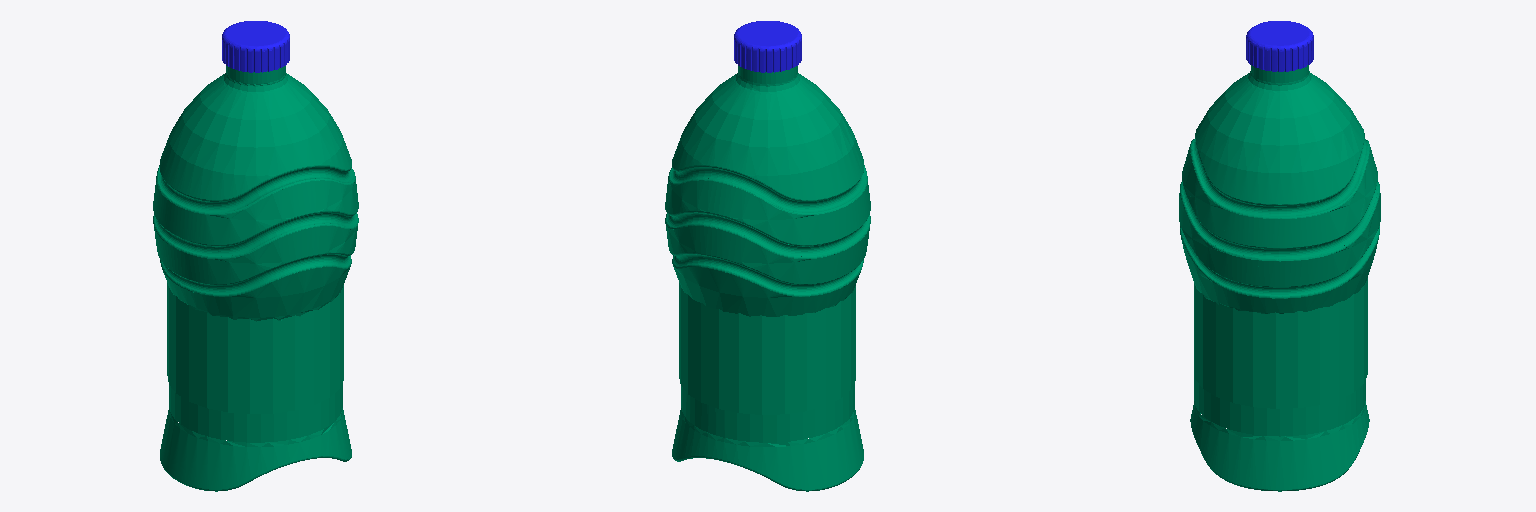
URDF robot description (bottle):
<?xml version='1.0' encoding='utf-8'?>
<robot name="bottle">
  <link name="base_link" />
  <link name="cap_link">
    <visual name="lid-7">
      <origin xyz="-0.0010509 -0.144410325 -0.001131375" />
      <geometry>
        <mesh filename="bottle_meshes/cap.obj" scale="0.15 0.15 0.15" />
      </geometry>
      <material name="cap_color">
        <color rgba="0.19215686 0.19215686 1 1" />
      </material>
    </visual>
    <collision name="graspable_handle_bar_cap">
      <origin xyz="-3.46033098e-13 0 -4.316243543e-13" rpy="0 0 0" />
      <geometry>
        <box size="0.0257118 0.01028475 0.02571105" />
      </geometry>
    </collision>
    <inertial>
      <origin xyz="-3.46033098e-13 0 -4.316243543e-13" rpy="0 0 0" />
      <mass value="0.0075" />
      <inertia ixx="4.792713591656247e-07" iyy="8.263467195890626e-07" izz="4.792954636265624e-07" ixy="0" ixz="0" iyz="0" />
    </inertial>
  </link>
  <joint name="cap_rotation_joint" type="continuous">
    <origin xyz="0.0 0 0.0" />
    <axis xyz="0 1 0" />
    <child link="cap_link" />
    <parent link="cap_axis" />
    <limit effort="3" velocity="6" />
    <dynamics damping="0.015" friction="0.015" />
  </joint>
  <link name="bottle_body">
    <visual name="body-5">
      <origin xyz="0 0 0" />
      <geometry>
        <mesh filename="bottle_meshes/body_4.obj" scale="0.15 0.15 0.15" />
      </geometry>
    </visual>
    <visual name="body-5">
      <origin xyz="0 0 0" />
      <geometry>
        <mesh filename="bottle_meshes/body_3.obj" scale="0.15 0.15 0.15" />
      </geometry>
    </visual>
    <visual name="body-5">
      <origin xyz="0 0 0" />
      <geometry>
        <mesh filename="bottle_meshes/body_8.obj" scale="0.15 0.15 0.15" />
      </geometry>
    </visual>
    <visual name="body-5">
      <origin xyz="0 0 0" />
      <geometry>
        <mesh filename="bottle_meshes/body_6.obj" scale="0.15 0.15 0.15" />
      </geometry>
    </visual>
    <visual name="body-5">
      <origin xyz="0 0 0" />
      <geometry>
        <mesh filename="bottle_meshes/body_2.obj" scale="0.15 0.15 0.15" />
      </geometry>
    </visual>
    <visual name="neck-6">
      <origin xyz="0 0 0" />
      <geometry>
        <mesh filename="bottle_meshes/body_5.obj" scale="0.15 0.15 0.15" />
      </geometry>
    </visual>
    <inertial>
      <origin xyz="0.001050825 0.011565525 0.0011313" rpy="0 0 0" />
      <mass value="0.04" />
      <inertia ixx="0.0002715183032148749" iyy="4.161091253167499e-05" izz="0.00027155014183694997" ixy="0" ixz="0" iyz="0" />
    </inertial>
    <collision name="bottle_section_0">
      <origin xyz="0.0010509 -0.1154171462 0.0011313" rpy="0 0 0" />
      <geometry>
        <box size="0.0750168 0.02029480769 0.0733296" />
      </geometry>
    </collision>
    <collision name="bottle_section_1">
      <origin xyz="0.0010509 -0.09512233846 0.0011313" rpy="0 0 0" />
      <geometry>
        <box size="0.0780093 0.02029480769 0.077073" />
      </geometry>
    </collision>
    <collision name="bottle_section_2">
      <origin xyz="0.001050825 -0.07482753077 0.0011313" rpy="0 0 0" />
      <geometry>
        <box size="0.07903425 0.02029480769 0.0789738" />
      </geometry>
    </collision>
    <collision name="bottle_section_3">
      <origin xyz="0.00105075 -0.05453272308 0.0011313" rpy="0 0 0" />
      <geometry>
        <box size="0.0789387 0.02029480769 0.0789738" />
      </geometry>
    </collision>
    <collision name="bottle_section_4">
      <origin xyz="0.0010509 -0.03423791538 0.001131375" rpy="0 0 0" />
      <geometry>
        <box size="0.0751896 0.02029480769 0.07656735" />
      </geometry>
    </collision>
    <collision name="bottle_section_5">
      <origin xyz="0.0010509 -0.01394310769 0.00129435" rpy="0 0 0" />
      <geometry>
        <box size="0.070275 0.02029480769 0.067341" />
      </geometry>
    </collision>
    <collision name="bottle_section_6">
      <origin xyz="0.000713175 0.0063517 0.001067625" rpy="0 0 0" />
      <geometry>
        <box size="0.06632175 0.02029480769 0.06632175" />
      </geometry>
    </collision>
    <collision name="bottle_section_8">
      <origin xyz="0.0010509 0.04694131538 0.00113115" rpy="0 0 0" />
      <geometry>
        <box size="0.0725982 0.02029480769 0.0714243" />
      </geometry>
    </collision>
    <collision name="bottle_section_9">
      <origin xyz="0.0010509 0.06723612308 0.0011313" rpy="0 0 0" />
      <geometry>
        <box size="0.0771546 0.02029480769 0.0772482" />
      </geometry>
    </collision>
    <collision name="bottle_section_10">
      <origin xyz="0.0010509 0.08753093077 0.0011313" rpy="0 0 0" />
      <geometry>
        <box size="0.0763902 0.02029480769 0.0772482" />
      </geometry>
    </collision>
    <collision name="bottle_section_11">
      <origin xyz="0.001050825 0.1078257385 0.0011313" rpy="0 0 0" />
      <geometry>
        <box size="0.06855465 0.02029480769 0.0651369" />
      </geometry>
    </collision>
    <collision name="bottle_section_12">
      <origin xyz="0.001172025 0.1281205462 0.0011313" rpy="0 0 0" />
      <geometry>
        <box size="0.04167525 0.02029480769 0.0419175" />
      </geometry>
    </collision>
  </link>
  <joint name="body_mount_joint" type="fixed">
    <origin rpy="1.570796326794897 0 -1.570796326794897" xyz="0 0 0.12556455" />
    <child link="bottle_body" />
    <parent link="base_link" />
  </joint>
  <link name="cap_axis">
    <inertial>
      <origin xyz="0 0 0" rpy="0 0 0" />
      <mass value="0.0001" />
      <inertia ixx="1e-09" iyy="1e-09" izz="1e-09" ixy="0" ixz="0" iyz="0" />
    </inertial>
  </link>
  <joint name="cap_lift_joint" type="prismatic">
    <origin xyz="0.0010509 0.144410325 0.001131375" />
    <axis xyz="0 1 0" />
    <child link="cap_axis" />
    <parent link="bottle_body" />
    <limit lower="0" upper="0.06400000000000006" effort="20" velocity="0.1" />
    <dynamics damping="0.5" friction="0.2" />
  </joint>
</robot>

--- Facts derived from the render (not from the file) ---
Views: 3 orthographic renders of the robot side by side, from view 1: azimuth 30°, elevation 25°; view 2: azimuth 150°, elevation 25°; view 3: azimuth 270°, elevation 25°.
Robot: bottle — 4 links, 3 joints (1 continuous, 1 prismatic, 1 fixed); root link base_link; default pose: every joint at zero.
Links seen in each view (by area): view 1: bottle_body, cap_link; view 2: bottle_body, cap_link; view 3: bottle_body, cap_link.
Boxes of the visible links, x1,y1,x2,y2 form: bottle_body: [153, 66, 358, 491]; cap_link: [222, 21, 289, 72]; bottle_body: [665, 66, 870, 491]; cap_link: [734, 21, 801, 72]; bottle_body: [1179, 65, 1380, 491]; cap_link: [1246, 21, 1313, 71].
Bounding box of the posed robot: 0.0772 × 0.0772 × 0.1758 m (x, y, z).
Meshes: 7 distinct files referenced, 6 mesh visuals loaded (6 OBJ); not drawn: 1 (reference not matched to a file when rendering).
